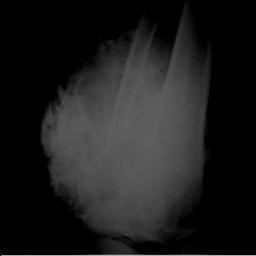cancer: (39, 26, 192, 244)
